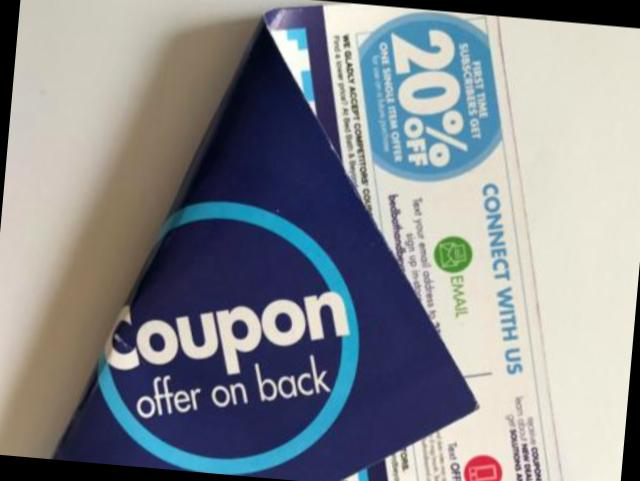cardboard paper: (52, 3, 561, 481)
